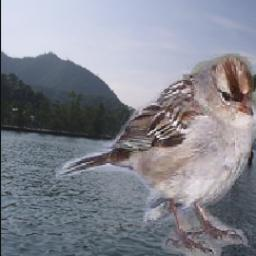Sparrow: (57, 54, 256, 256)
